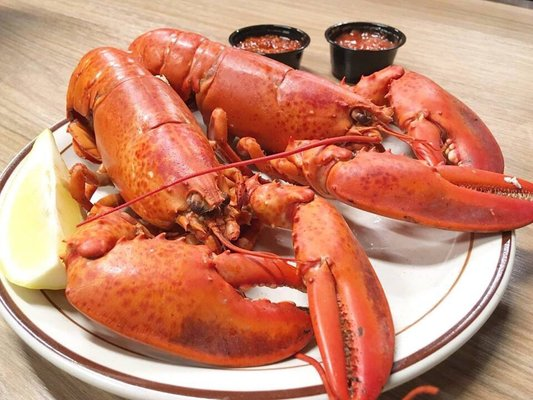pizza: (324, 21, 407, 85)
sushi: (325, 21, 407, 85), (228, 24, 311, 70)
